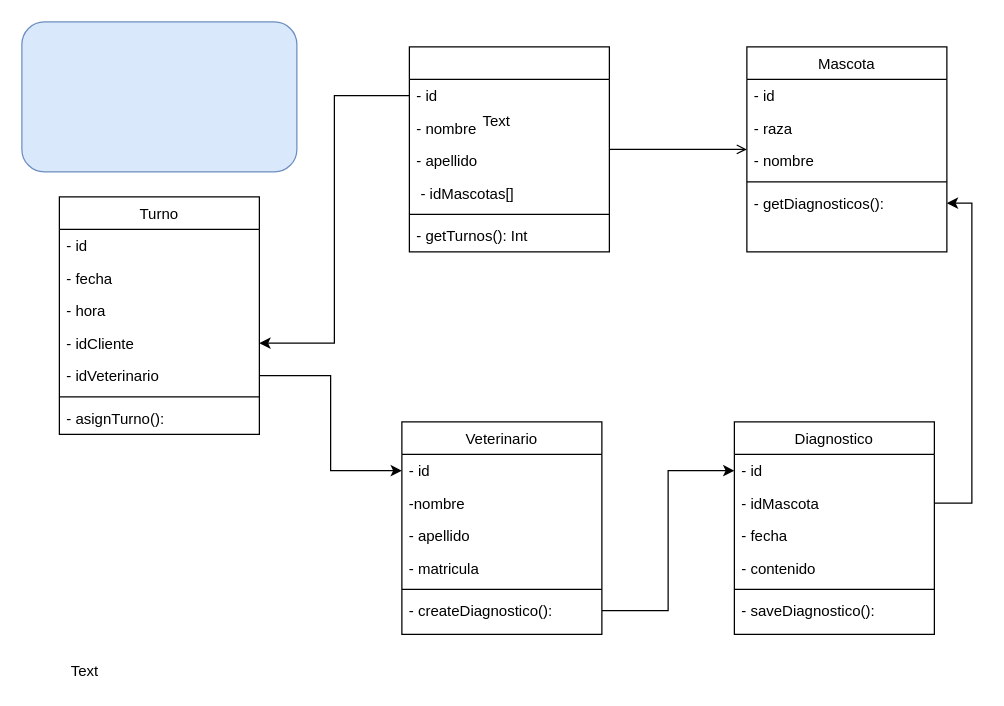
Image size: 1004x706. Some labels were removed from this diagram. Here are the shapes that lost their labels. From the top down, the box of each, then its label:
(21, 21, 297, 172): UML: Diagrama de Clases Veterinaria Veto
(408, 46, 609, 252): Cliente
